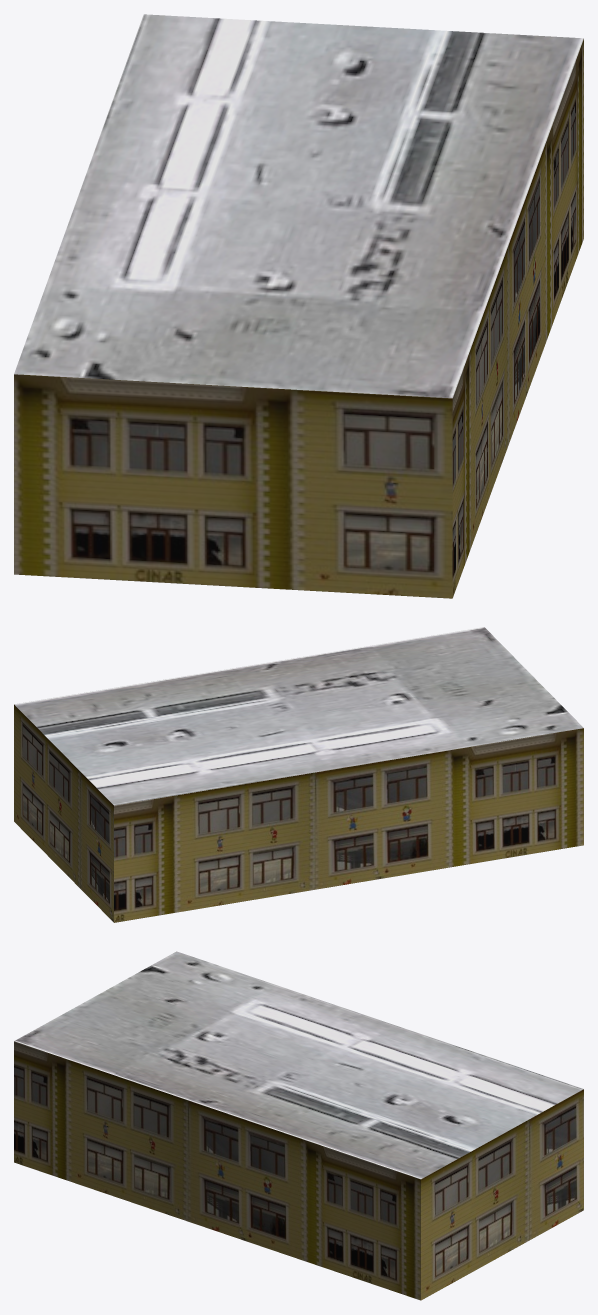
Rendered from EduTex__2.fbx.
3 views of the same model, one above another, from view 1: azimuth 30°, elevation 25°; view 2: azimuth 150°, elevation 25°; view 3: azimuth 270°, elevation 25° (orthographic). The views are drawn at different scales.
Parts seen in each view (by area): view 1: CityEngineMaterial_m, CityEngineMaterial_3_m; view 2: CityEngineMaterial_3_m, CityEngineMaterial_m; view 3: CityEngineMaterial_3_m, CityEngineMaterial_m.
Part boxes in pixels (left/top/right/bottom): CityEngineMaterial_m: left=14, top=14, right=583, bottom=398; CityEngineMaterial_3_m: left=14, top=39, right=583, bottom=598; CityEngineMaterial_3_m: left=14, top=704, right=583, bottom=922; CityEngineMaterial_m: left=14, top=627, right=583, bottom=805; CityEngineMaterial_3_m: left=14, top=1041, right=583, bottom=1300; CityEngineMaterial_m: left=14, top=951, right=583, bottom=1179.
Size of the model in its own units: 24.2 by 6 by 25.56.
2 materials, 2 textured.
